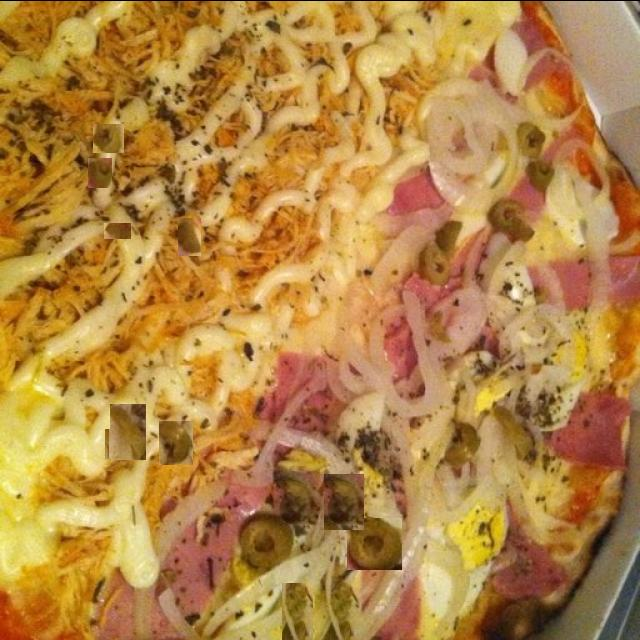olive: (347, 517, 402, 569), (324, 473, 364, 529), (110, 403, 146, 459), (282, 582, 313, 640), (159, 419, 193, 464), (186, 242, 220, 281), (118, 195, 151, 226), (94, 123, 125, 152), (178, 217, 201, 255), (88, 157, 112, 187), (106, 428, 128, 458), (191, 310, 213, 340), (104, 222, 131, 238)
pizza: (0, 0, 640, 640)
